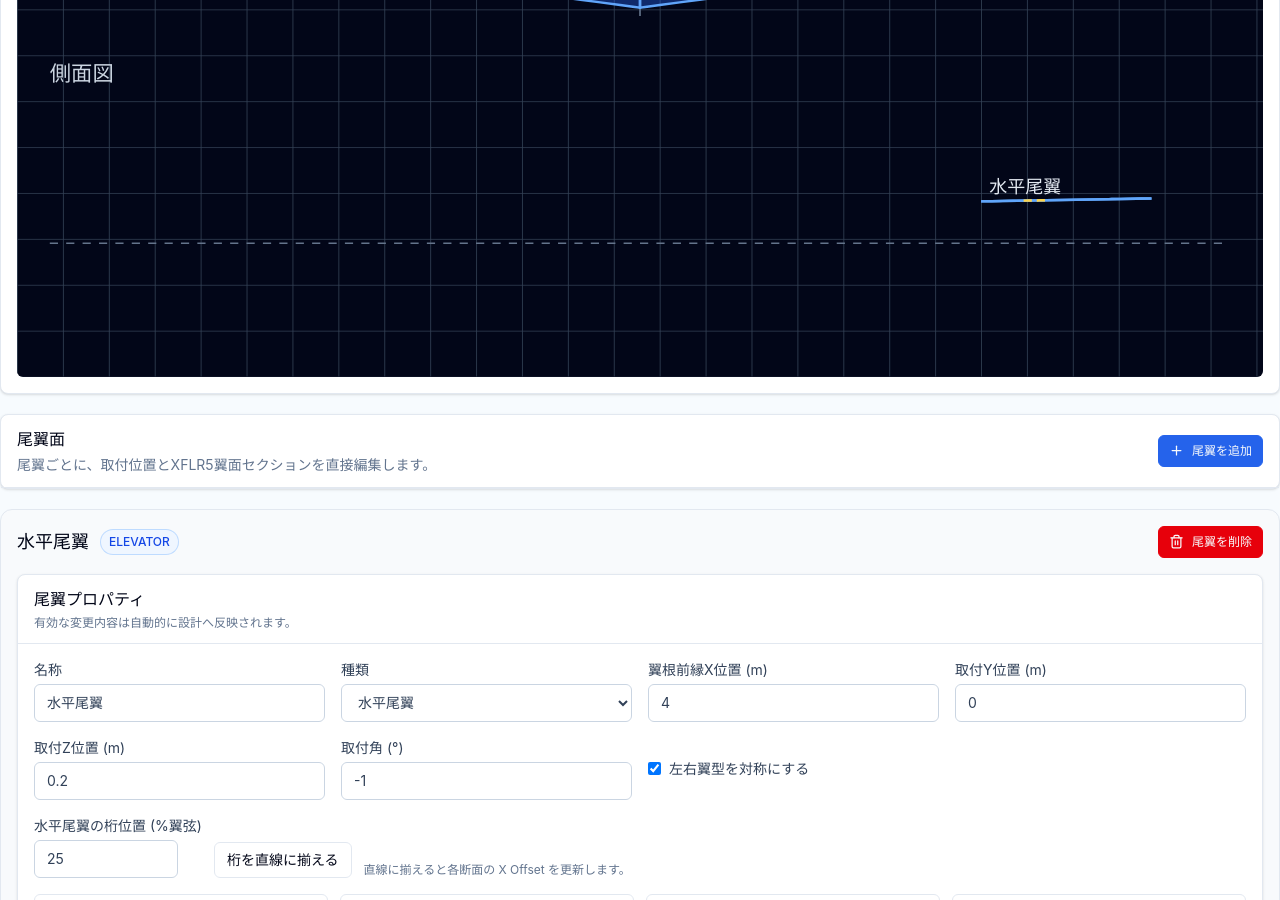
Test: TailDesignPage › adds another independent section table for each new tail
(page scrolled)
What coordinates should you click on to do the following:
click the button "尾翼を追加"
I would click on:
 (1210, 451)
Its box is 1158,435 -> 1263,467.
(page scrolled)
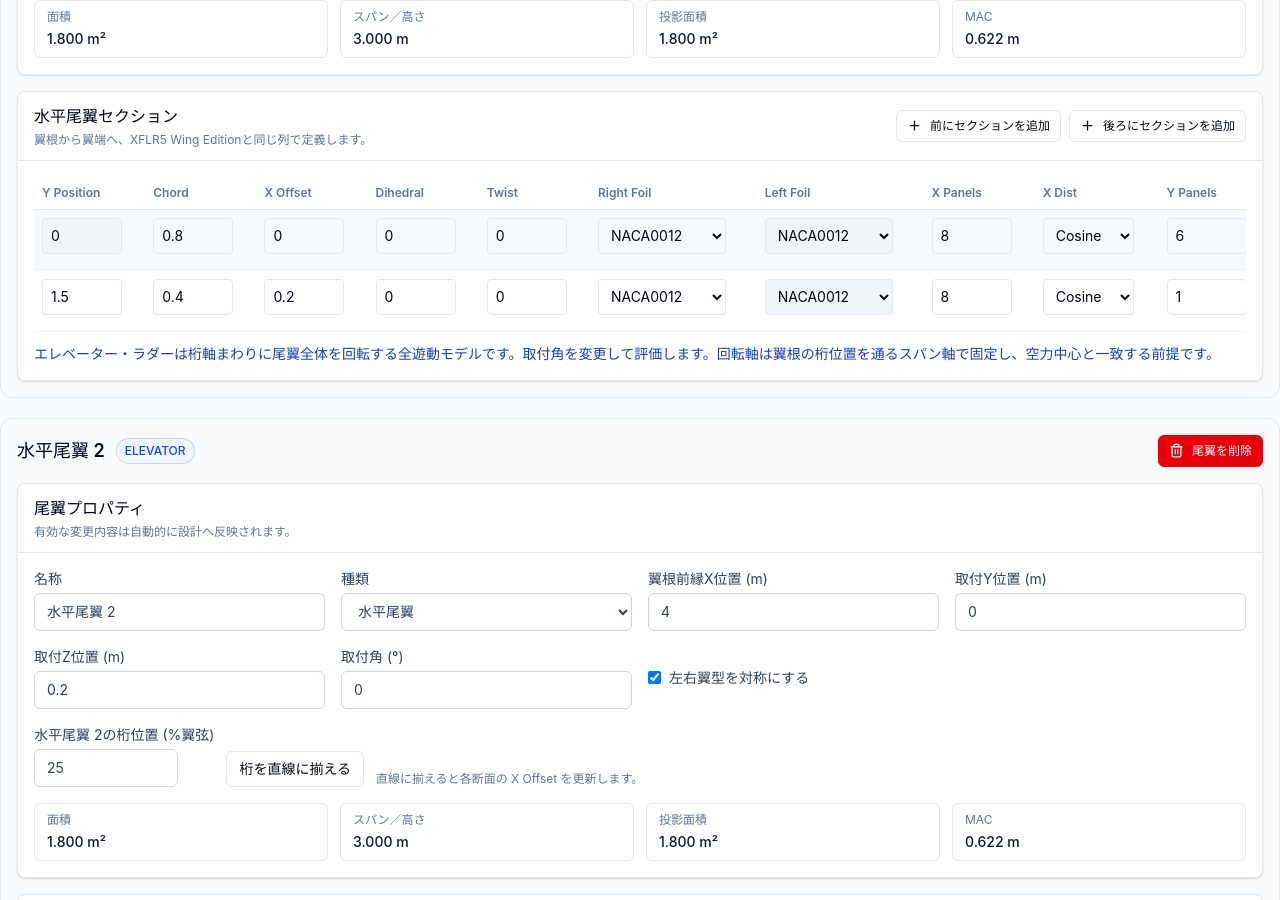
Expected: the number of column headings "Y Position" is 2
Expected: the heading "水平尾翼 2" is shown, 17,437 -> 105,465
